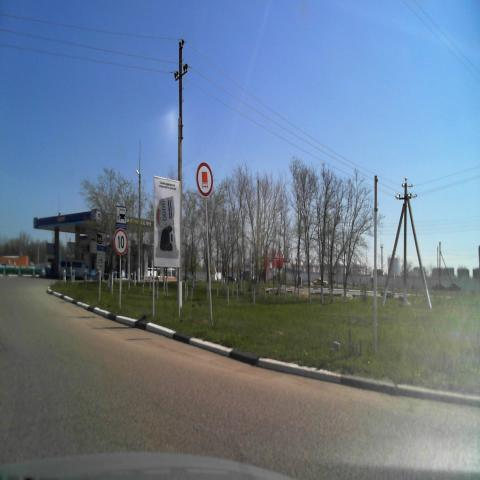3_32: (196, 161, 214, 197)
